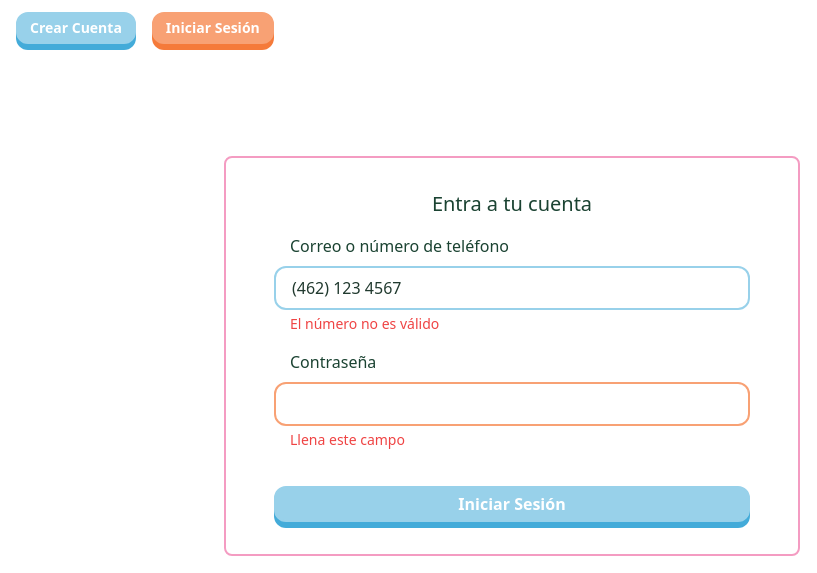
Validación de usuarios › Usuario no existente › Usuario con correo
Replace the text in the field with id "identifier" with "algo@algo.com" at (512, 288), box [274,266,750,310]
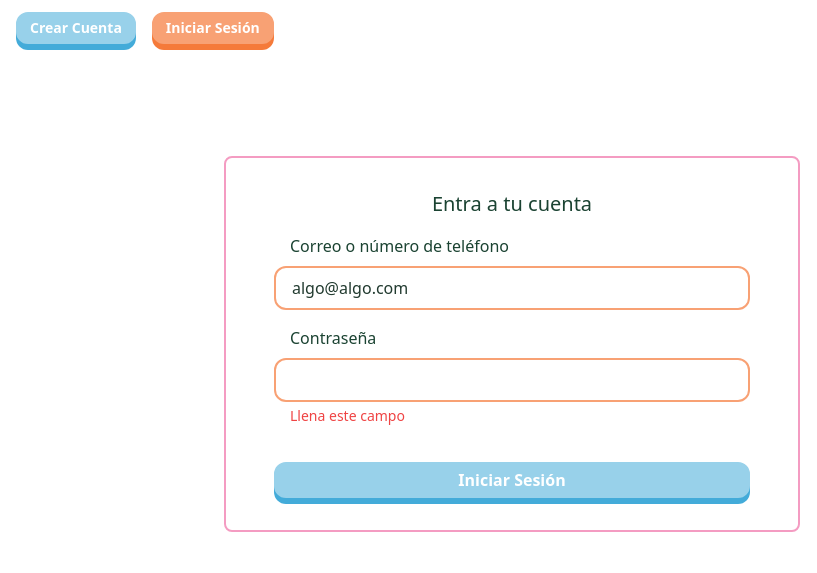
Type "123456" into the password field labelled "Contraseña" at (512, 380), box [274,358,750,402]
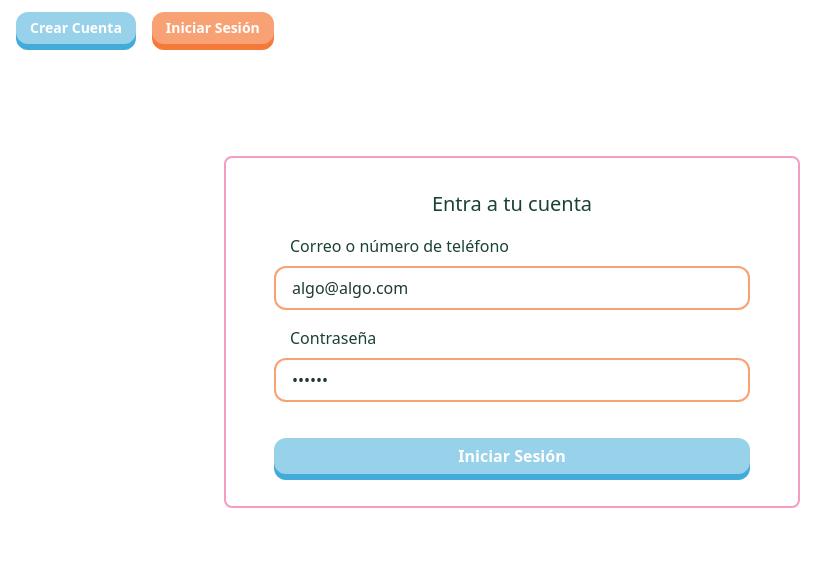
Click the button with id "entrar-a-cuenta" at (512, 456), box [274,438,750,474]
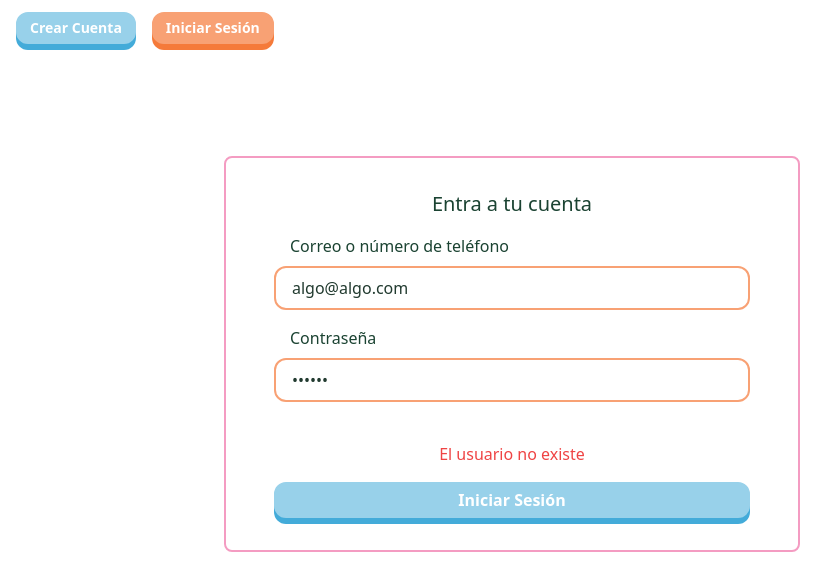
Now the text "El usuario no existe" is shown, box [439,443,585,465]
